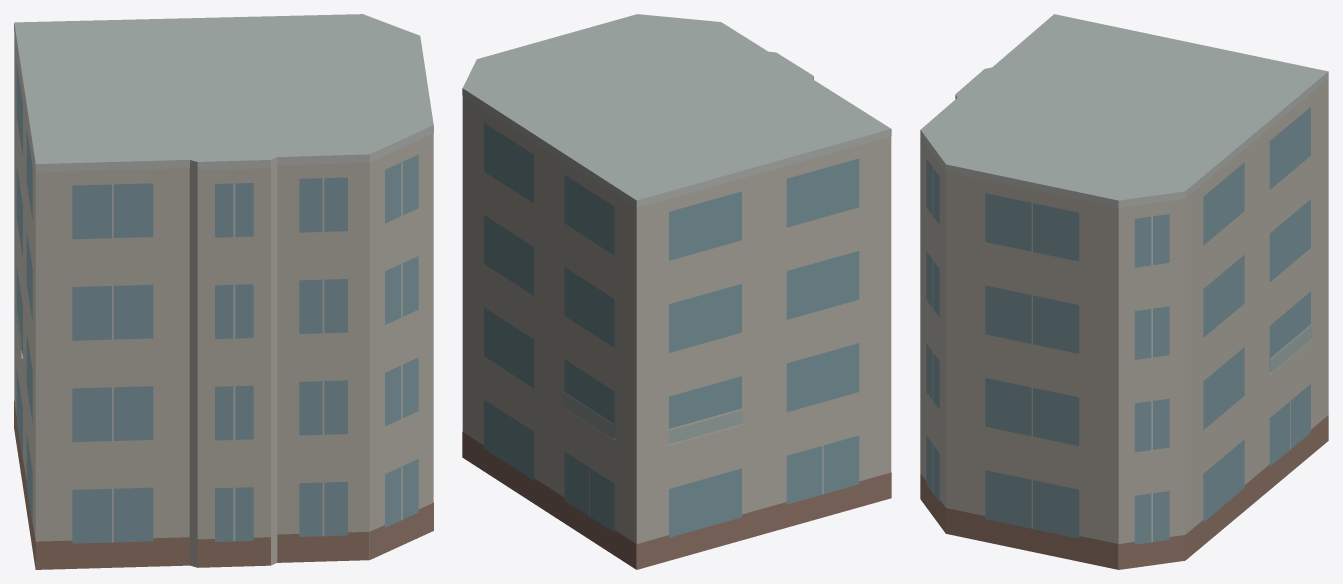
File: survey-upis-32959023.glb
The picture shows the model from 3 angles, left to right: view 1: azimuth 30°, elevation 25°; view 2: azimuth 150°, elevation 25°; view 3: azimuth 270°, elevation 25°; orthographic projection. The views are drawn at different scales.
Parts seen in each view (by area): view 1: survey-upis-32959023.tmp; view 2: survey-upis-32959023.tmp; view 3: survey-upis-32959023.tmp.
Boxes of the visible parts, x1=… form: survey-upis-32959023.tmp: x1=14, y1=14, x2=433, y2=569; survey-upis-32959023.tmp: x1=462, y1=14, x2=891, y2=569; survey-upis-32959023.tmp: x1=920, y1=14, x2=1328, y2=569.
Size of the model in its own units: 13.12 by 12.1 by 12.13.
